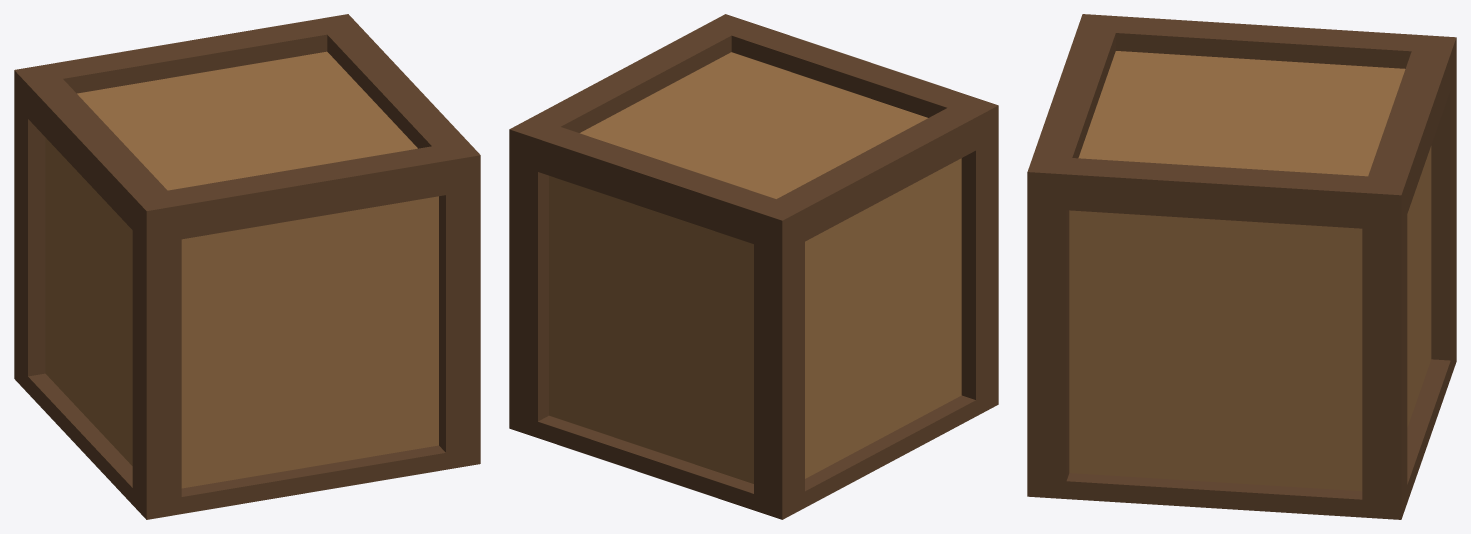
Rendered from Crate.fbx.
3 views of the same model, side by side, from view 1: azimuth 30°, elevation 25°; view 2: azimuth 150°, elevation 25°; view 3: azimuth 270°, elevation 25° (orthographic). The views are drawn at different scales.
Parts seen in each view (by area): view 1: Crate; view 2: Crate; view 3: Crate.
Boxes of the visible parts, x1,y1,x2,y2 form: Crate: (14,14,480,519); Crate: (509,14,998,519); Crate: (1027,14,1456,519).
Bounding box in the file's own units: 0.7605 × 0.635 × 0.7605.
